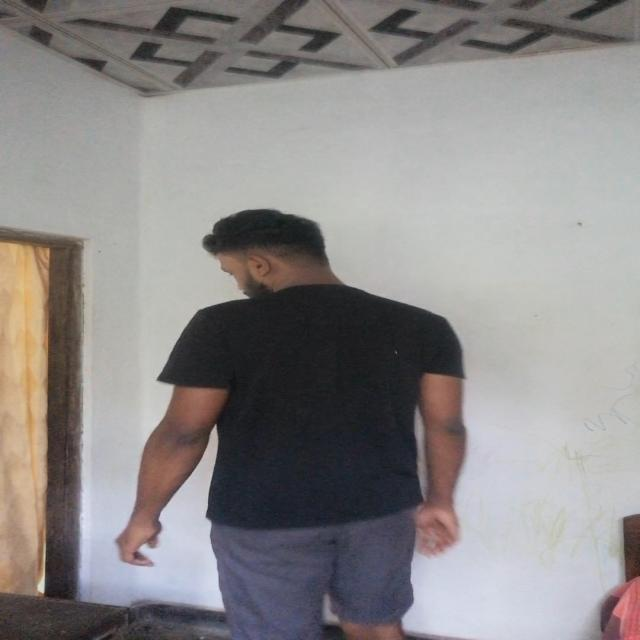Person: (142, 197, 512, 640)
